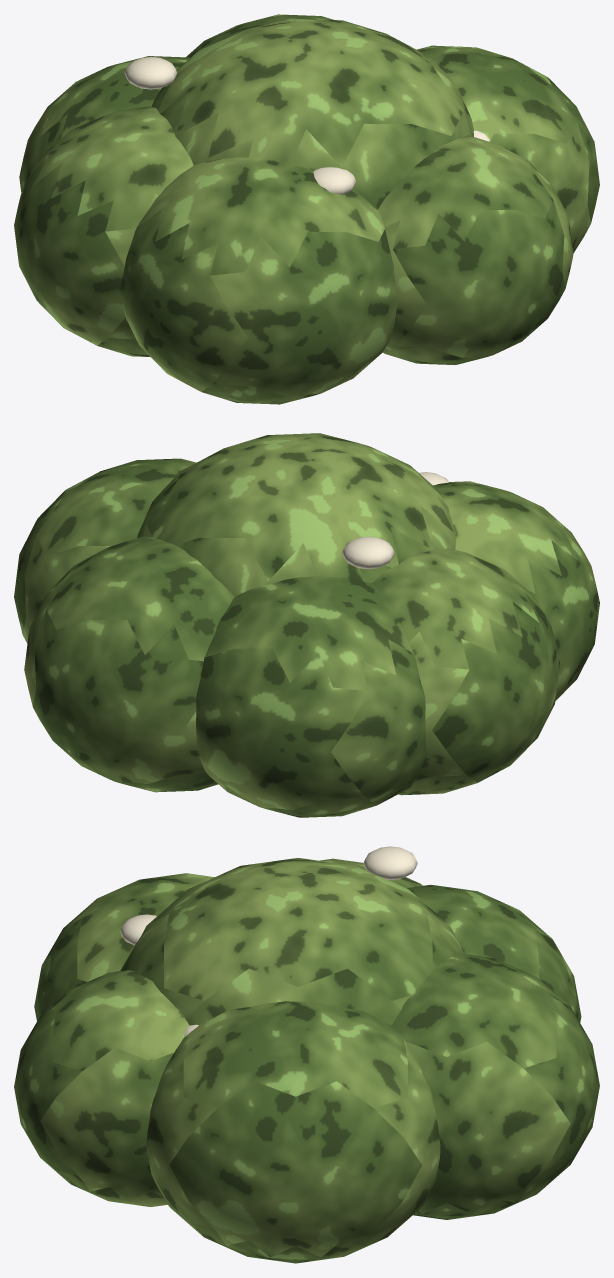
The model's file is bush2.glb.
3 renders of one model, top to bottom at view 1: azimuth 30°, elevation 25°; view 2: azimuth 150°, elevation 25°; view 3: azimuth 270°, elevation 25°, orthographic. The views are drawn at different scales.
Visible parts, largest first — view 1: bush2; view 2: bush2; view 3: bush2.
Boxes of the visible parts, <box> form: bush2: <box>14,14,599,404</box>; bush2: <box>14,433,599,817</box>; bush2: <box>14,846,599,1263</box>.
Size of the model in its own units: 1.15 by 0.6059 by 1.07.
2 materials, 1 textured.
